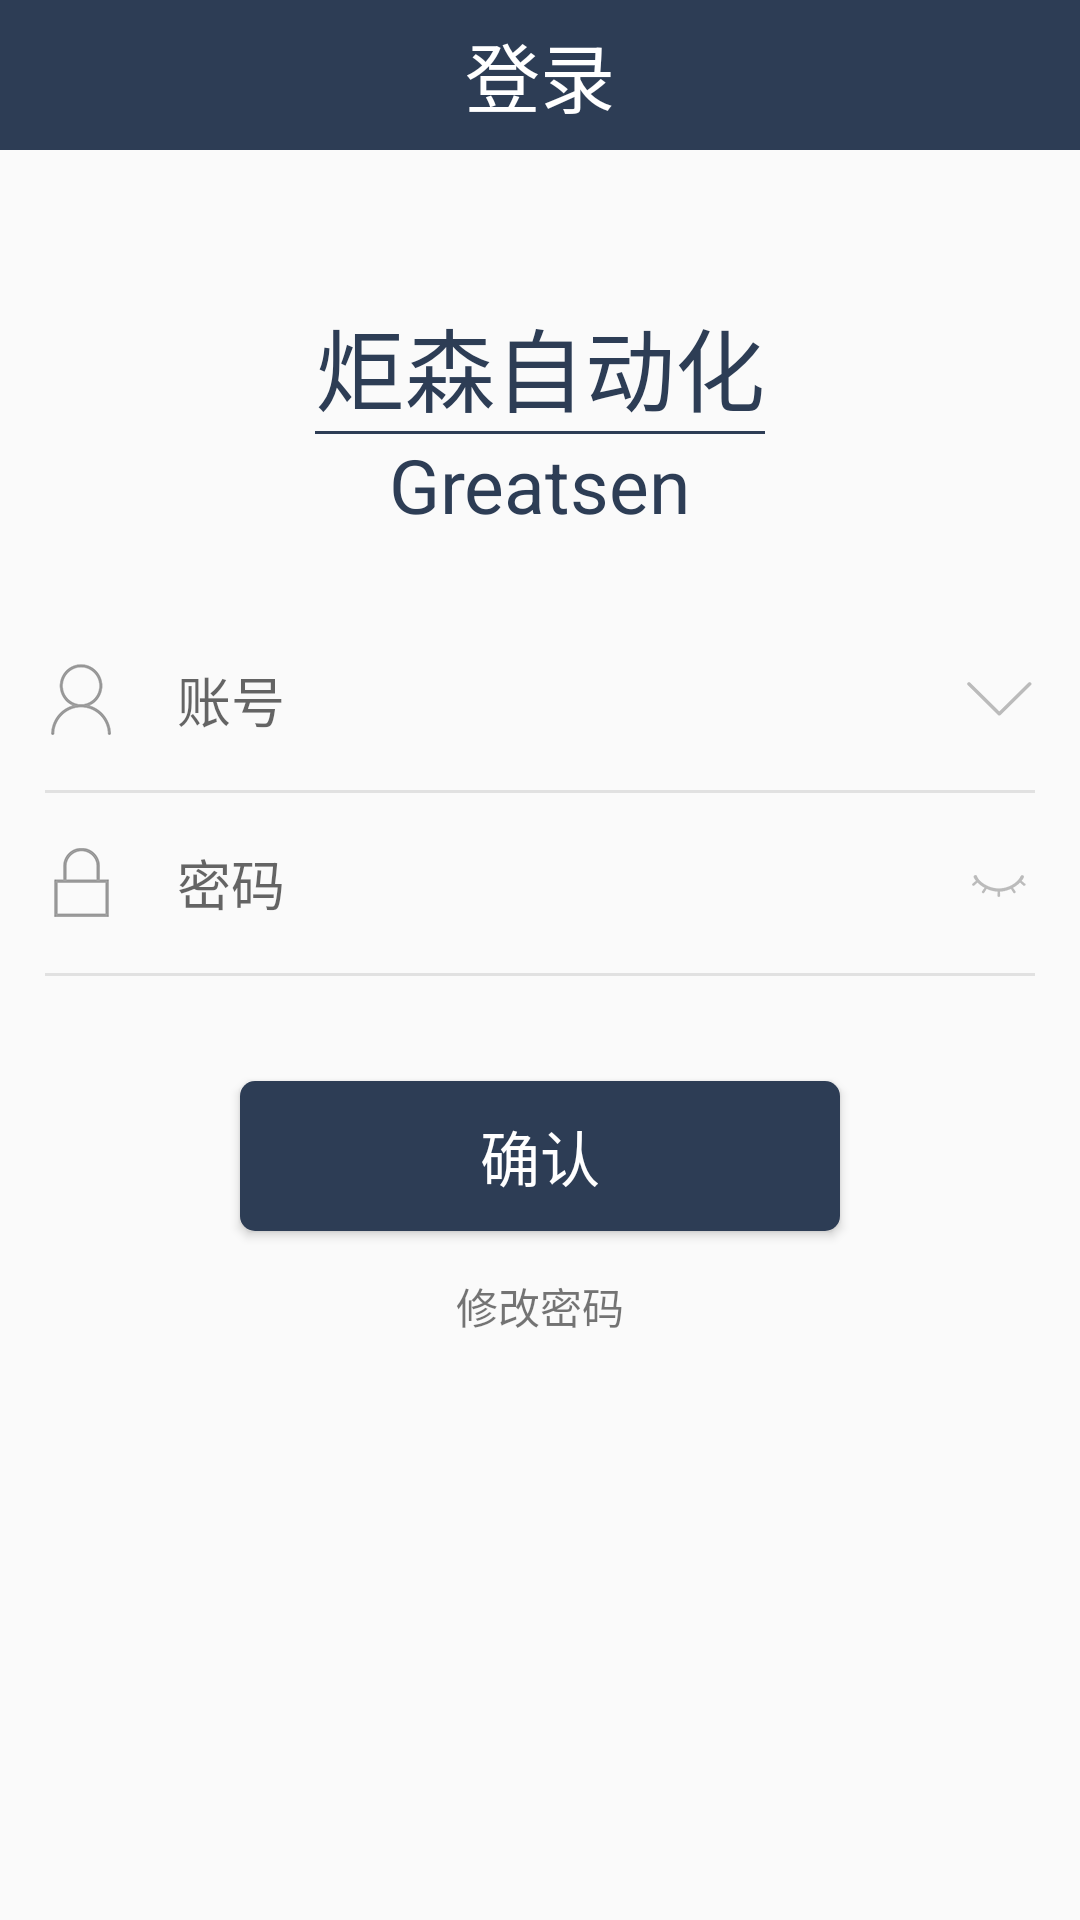

Named icons in this screenshot (1080 x 1920) and their bounding boxes, [x1,y1,x2,y2]:
account: [51,664,111,735]
dropdown: [967,682,1032,716]
eyes: [972,875,1026,897]
lock: [54,848,109,917]
